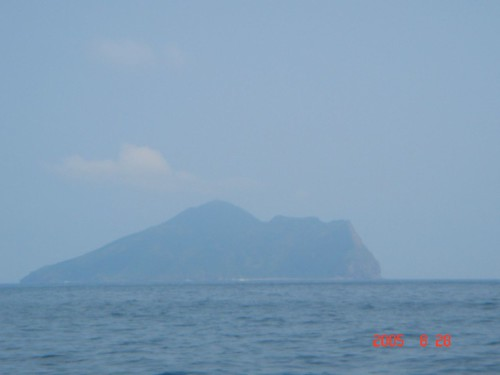turtleIsland: (20, 198, 382, 278)
